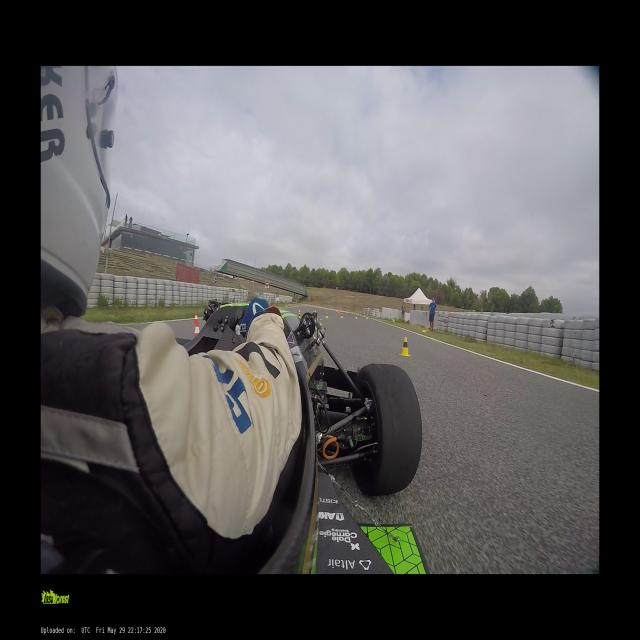orange_cone: (192, 311, 201, 328), (194, 324, 200, 335)
yellow_cone: (398, 337, 410, 357), (325, 312, 328, 319), (355, 313, 357, 319), (340, 313, 342, 319), (299, 312, 300, 318)
